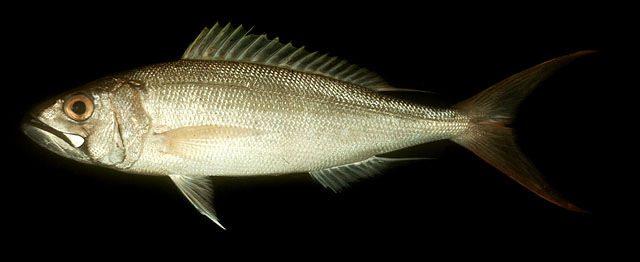fish: (24, 22, 590, 232)
